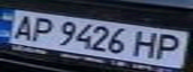2: (90, 24, 112, 53)
4: (72, 21, 96, 52)
6: (109, 25, 133, 56)
9: (51, 18, 78, 48)
A: (3, 11, 39, 42)
H: (130, 29, 163, 60)
P: (151, 32, 190, 61), (24, 15, 60, 44)
